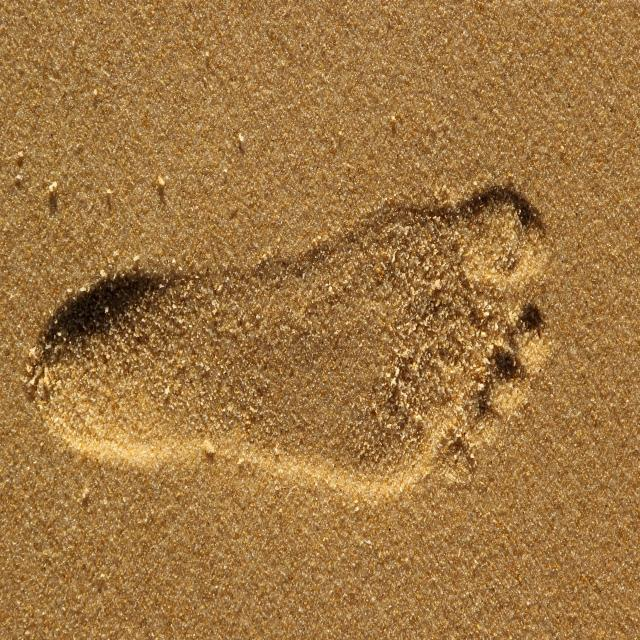human_footprint: (20, 178, 558, 513)
